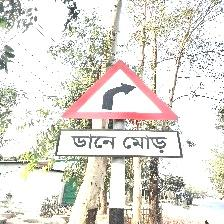Right-turn: (57, 59, 183, 159)
